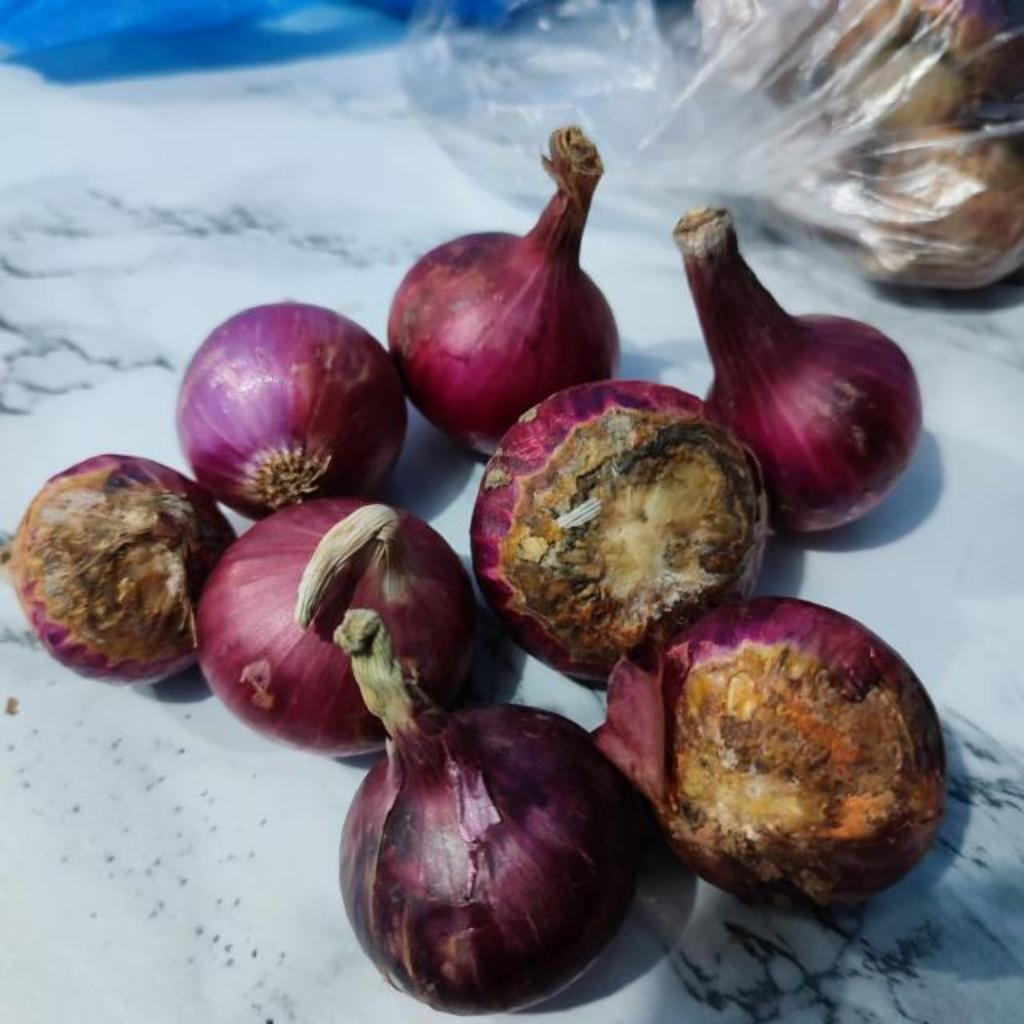Onion: (334, 610, 642, 1015), (662, 598, 949, 906), (390, 128, 618, 454), (683, 226, 923, 532), (198, 498, 475, 756), (8, 456, 234, 682), (176, 302, 406, 518)
